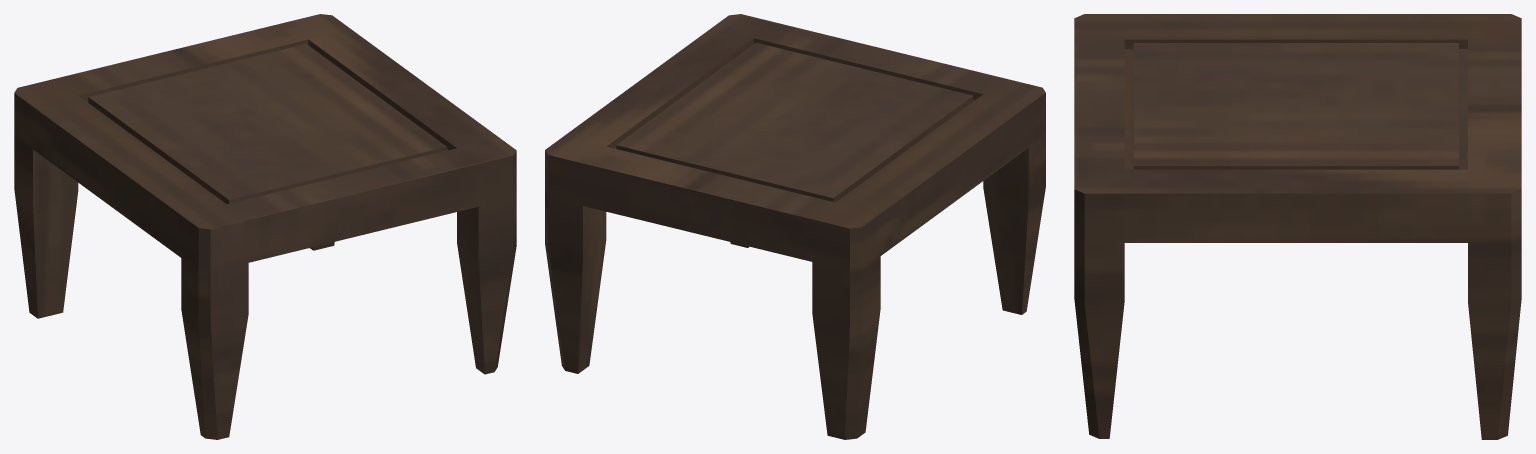
The model's file is side_table.glb.
3 views of the same model, side by side, from view 1: azimuth 30°, elevation 25°; view 2: azimuth 150°, elevation 25°; view 3: azimuth 270°, elevation 25° (orthographic). The views are drawn at different scales.
Parts seen in each view (by area): view 1: side_table; view 2: side_table; view 3: side_table.
Part boxes in pixels (x1,y1,x2,y2): side_table: (14, 14, 516, 439); side_table: (545, 14, 1045, 439); side_table: (1074, 14, 1521, 439).
Bounding box in the file's own units: 0.95 × 0.623 × 1.
Materials: 1 (1 with a texture image).
